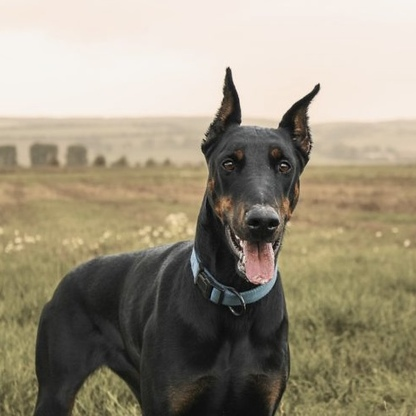doberman: (32, 71, 311, 416)
